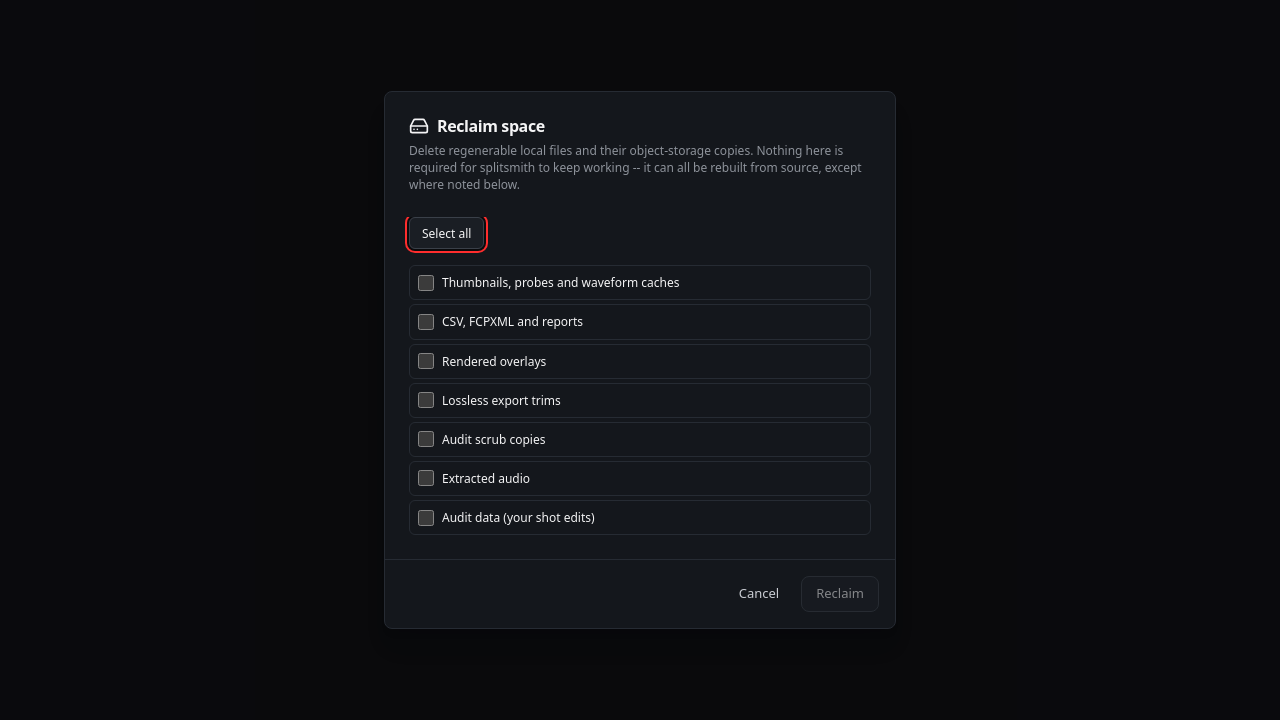
CleanupDialog › surfaces a partial apply failure instead of closing silently
The image size is (1280, 720).
Click the button "Select all" at (447, 233), box x1=409 y1=217 x2=484 y2=249
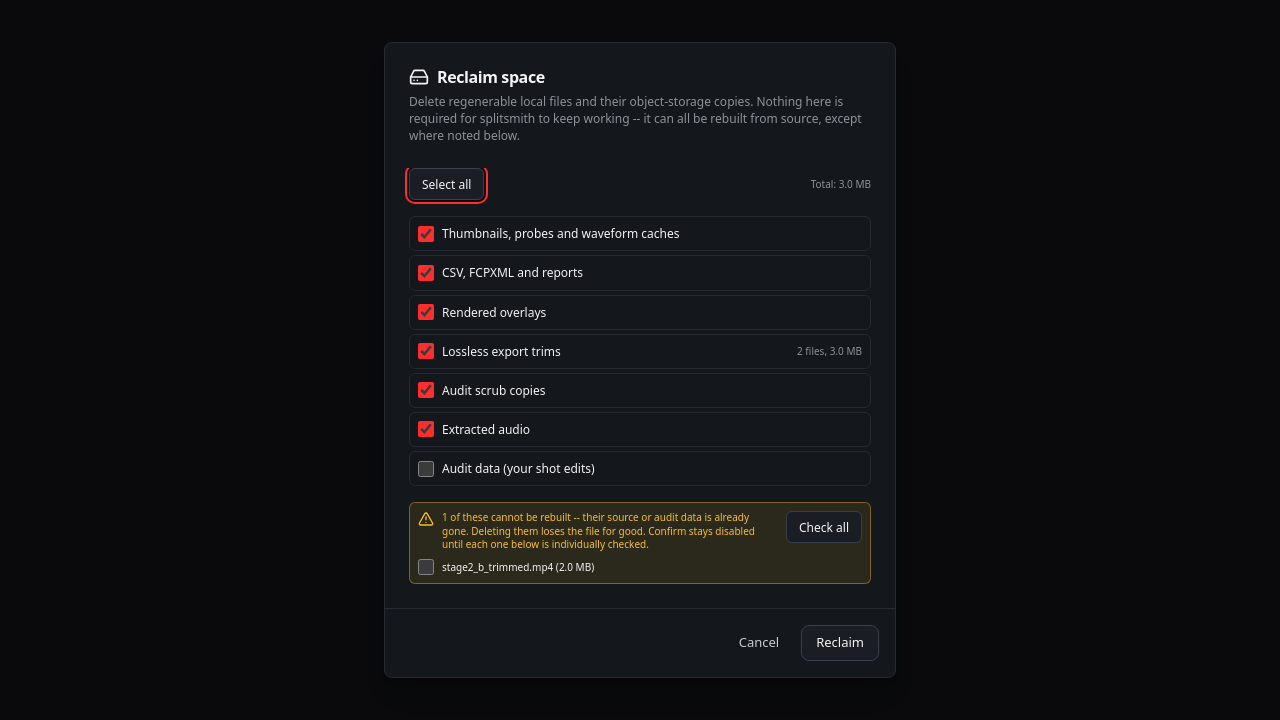
Click the checkbox labelled "stage2_b_trimmed.mp4" at (426, 567), box x1=418 y1=559 x2=434 y2=575
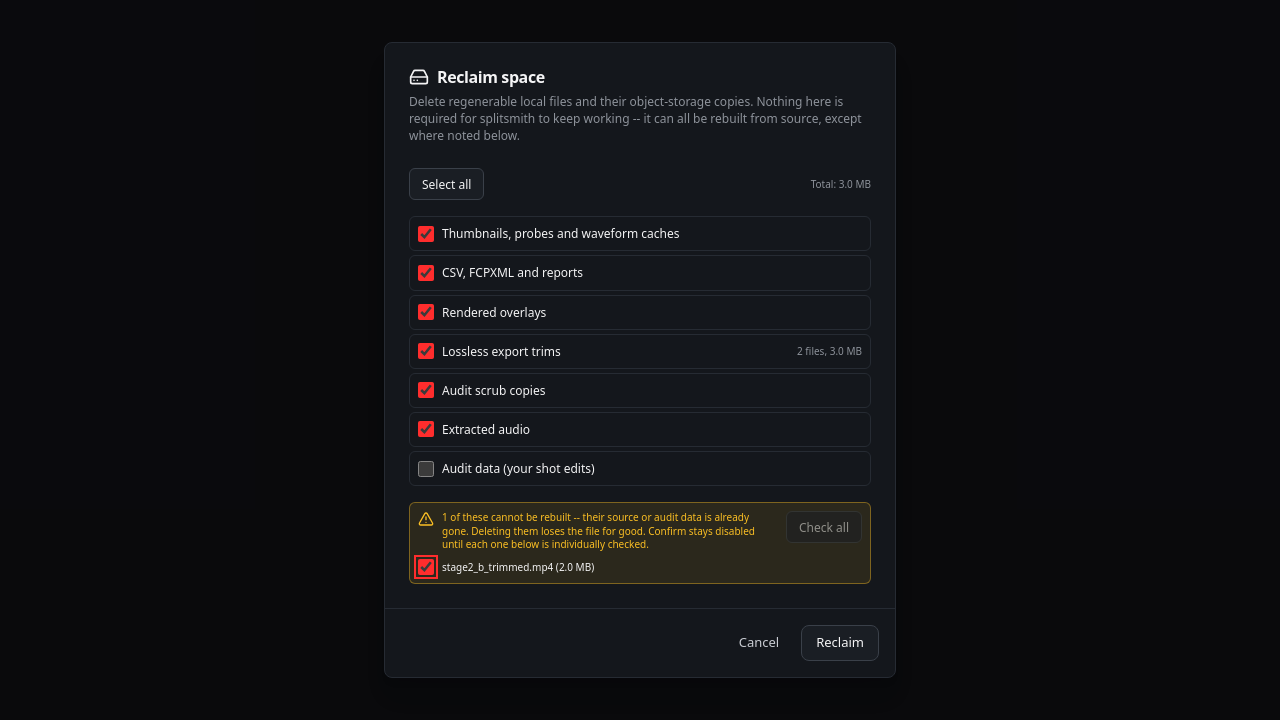
Click the button "Reclaim" at (840, 643), box x1=801 y1=625 x2=879 y2=661
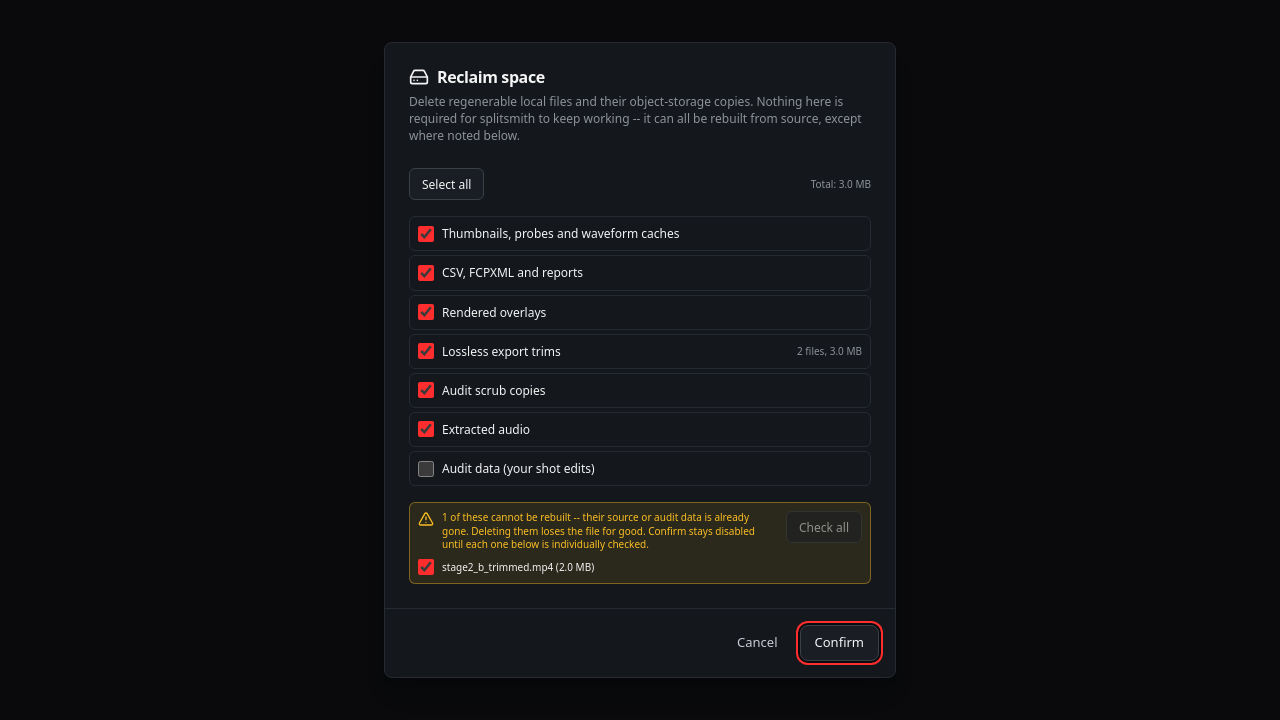
Click the button "Confirm" at (839, 643), box x1=800 y1=625 x2=879 y2=661
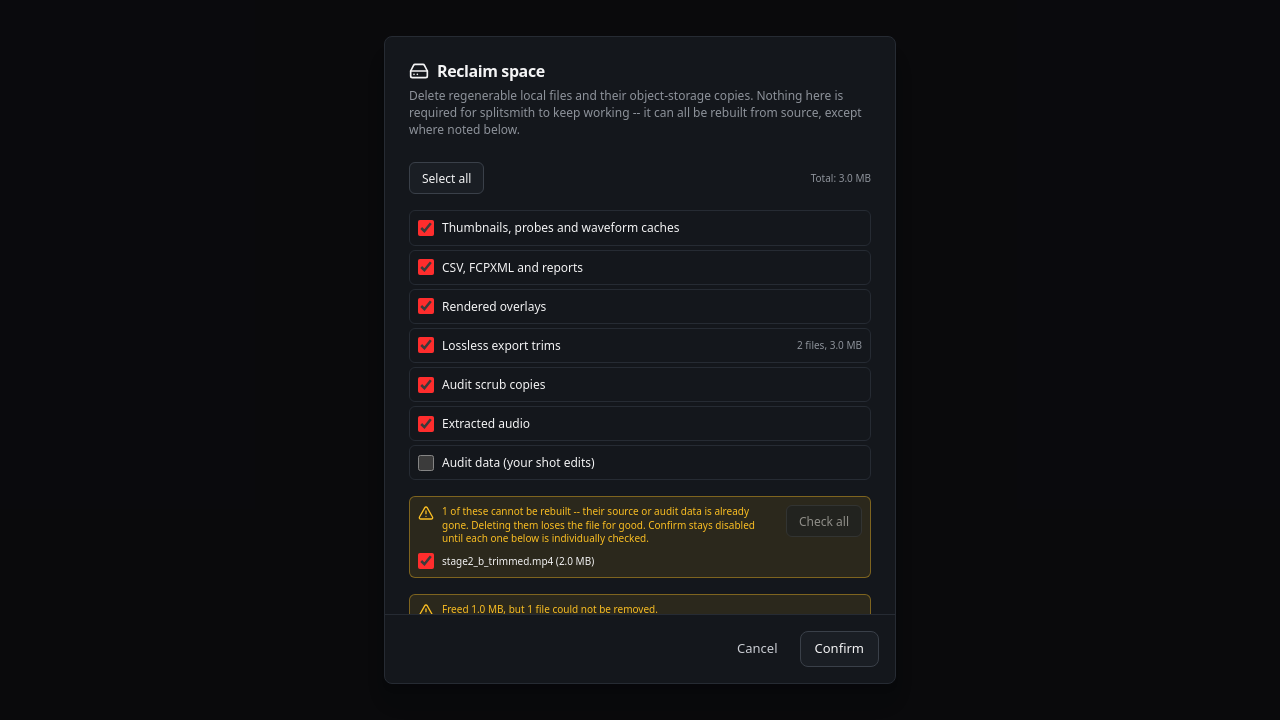
expect the text "Freed 1.0 MB, but 1 file could not be removed." is shown: met, box x1=442 y1=603 x2=658 y2=614
